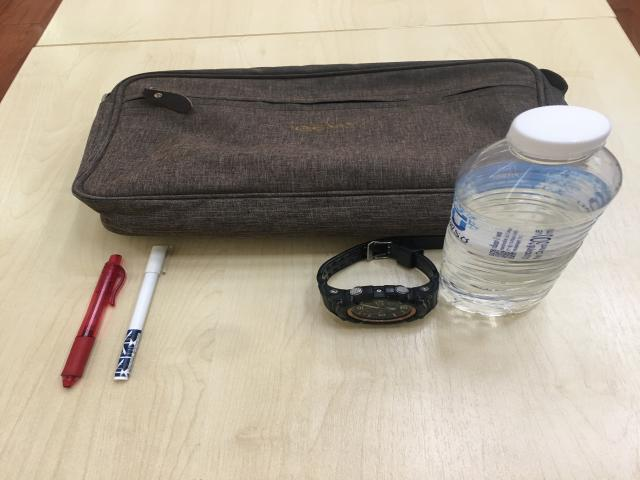Pen: (60, 255, 125, 391), (113, 246, 172, 385)
Watch: (316, 241, 441, 327)
bottle: (439, 107, 623, 321)
